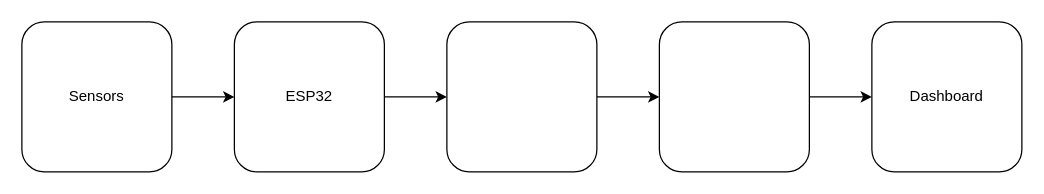
This 1044x194 diagram has some shape labels left out. The centre of each missing label's shape, as x and y in pixels:
"Cloud" belongs at pixel 733 96.
"Wi-Fi" belongs at pixel 521 96.
